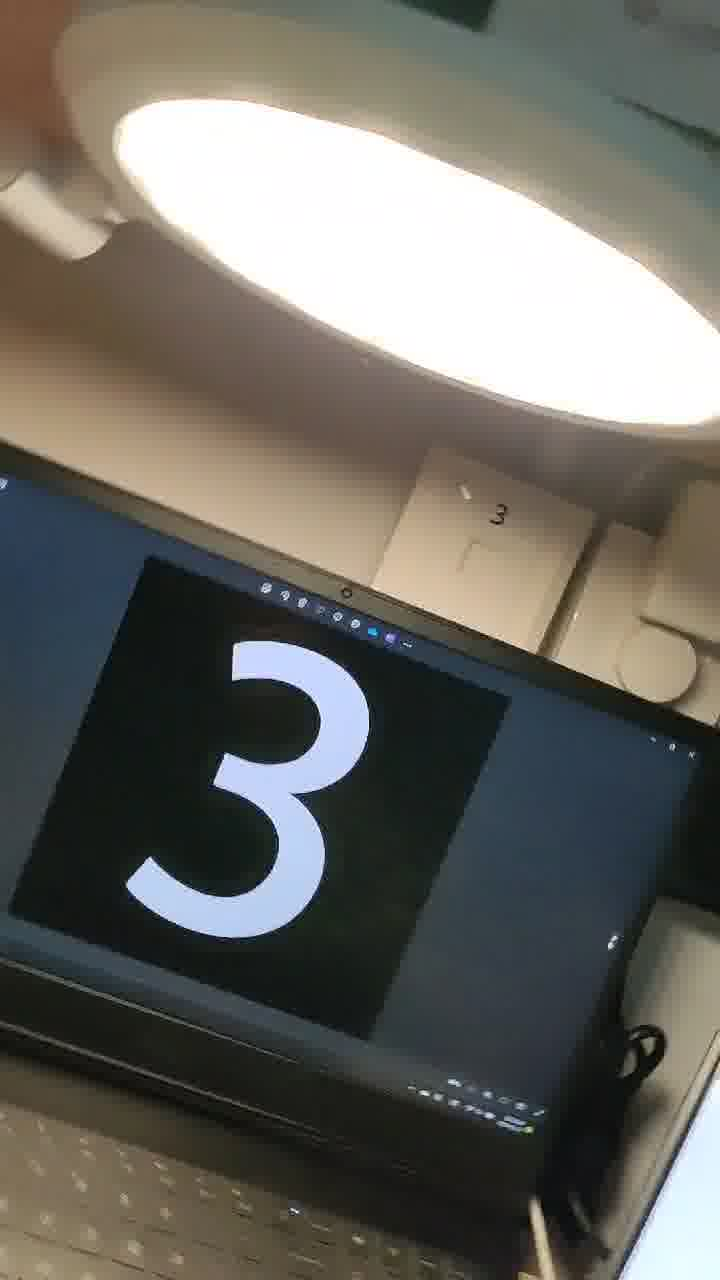three: (97, 573, 452, 1091)
